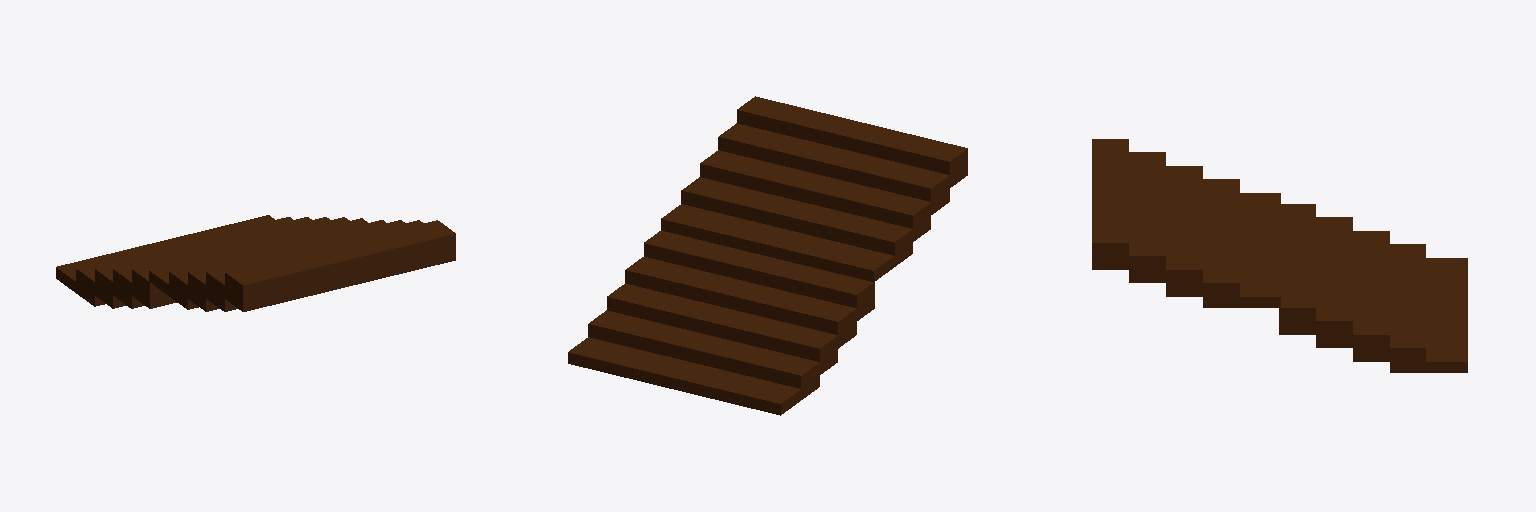
Rendered from trap.obj.
3 views of the same model, side by side, from view 1: azimuth 30°, elevation 25°; view 2: azimuth 150°, elevation 25°; view 3: azimuth 270°, elevation 25° (orthographic).
Visible parts, largest first — view 1: pasted__pCube1 Trap, Trap pCube1; view 2: pasted__pCube1 Trap, Trap pCube1; view 3: pasted__pCube1 Trap, Trap pCube1.
Boxes of the visible parts, x1,y1,x2,y2 form: pasted__pCube1 Trap: [149, 218, 455, 311]; Trap pCube1: [56, 215, 349, 308]; pasted__pCube1 Trap: [661, 96, 967, 281]; Trap pCube1: [568, 231, 874, 415]; pasted__pCube1 Trap: [1092, 139, 1280, 307]; Trap pCube1: [1279, 204, 1467, 372].
Bounding box in the file's own units: 3.33 × 1.94 × 5.08.